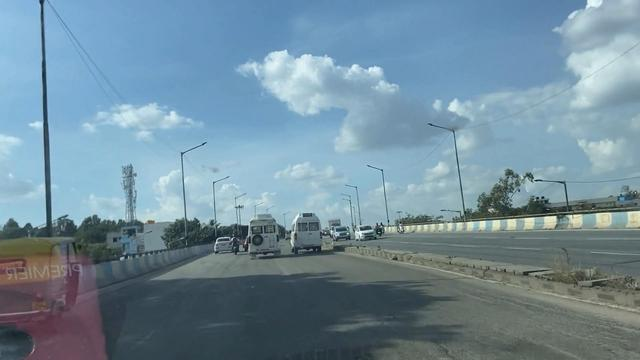HMV: (293, 205, 320, 259), (247, 216, 285, 253)
LMV: (1, 241, 84, 321)
RoadDamages: (189, 325, 633, 360)
